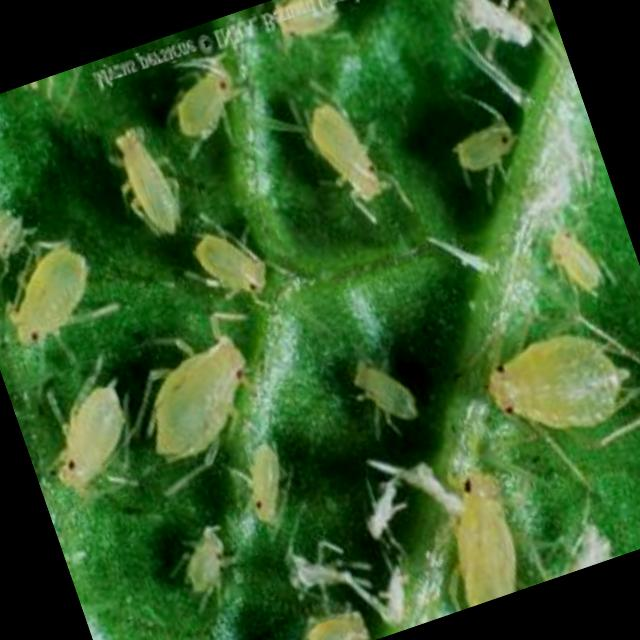Green peach aphid: (452, 290, 640, 476), (100, 313, 286, 490), (14, 347, 177, 524), (270, 64, 422, 243), (398, 446, 556, 616), (152, 187, 308, 335), (314, 313, 456, 464), (82, 98, 206, 261), (0, 212, 124, 359), (417, 93, 553, 222), (140, 34, 257, 159), (524, 202, 634, 326), (217, 423, 326, 547), (153, 504, 257, 624), (250, 0, 388, 74), (265, 581, 390, 640), (0, 184, 47, 271)
